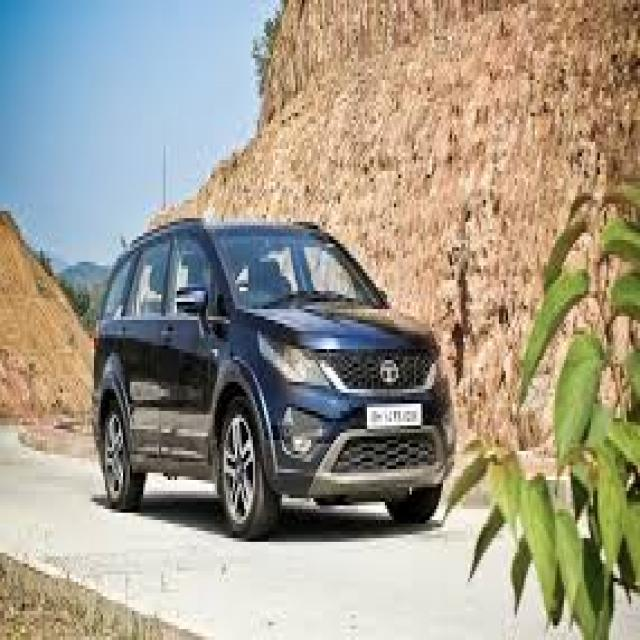car: (83, 211, 476, 537)
